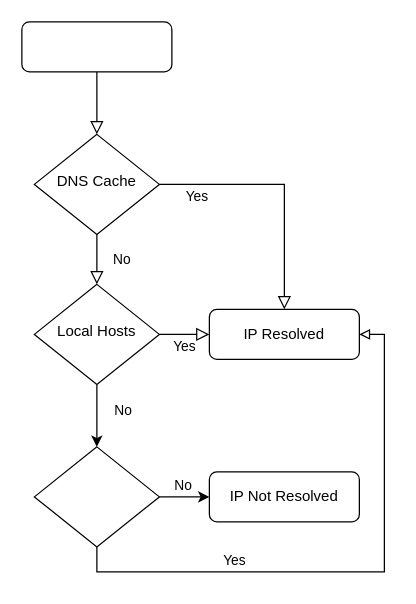
Image size: 416x604. Some labels were removed from this diagram. Each missing label, with the box of its shape:
Client: (21, 21, 172, 72)
DNS Servers: (33, 446, 159, 547)
